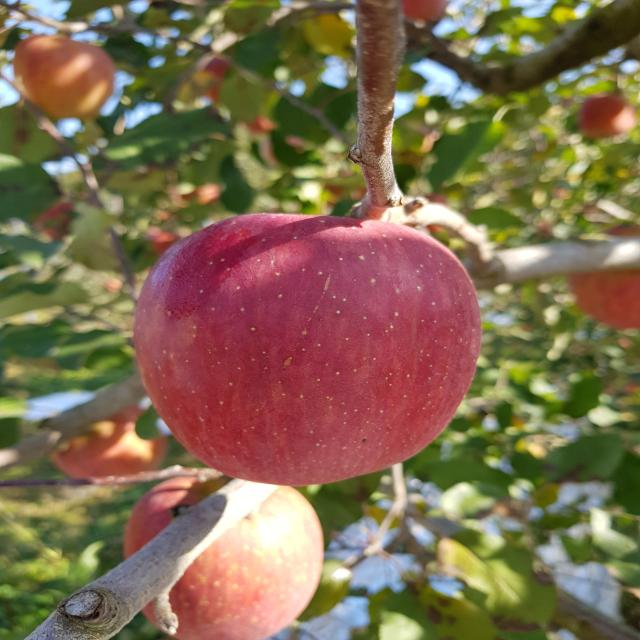fresh: (127, 204, 492, 491)
